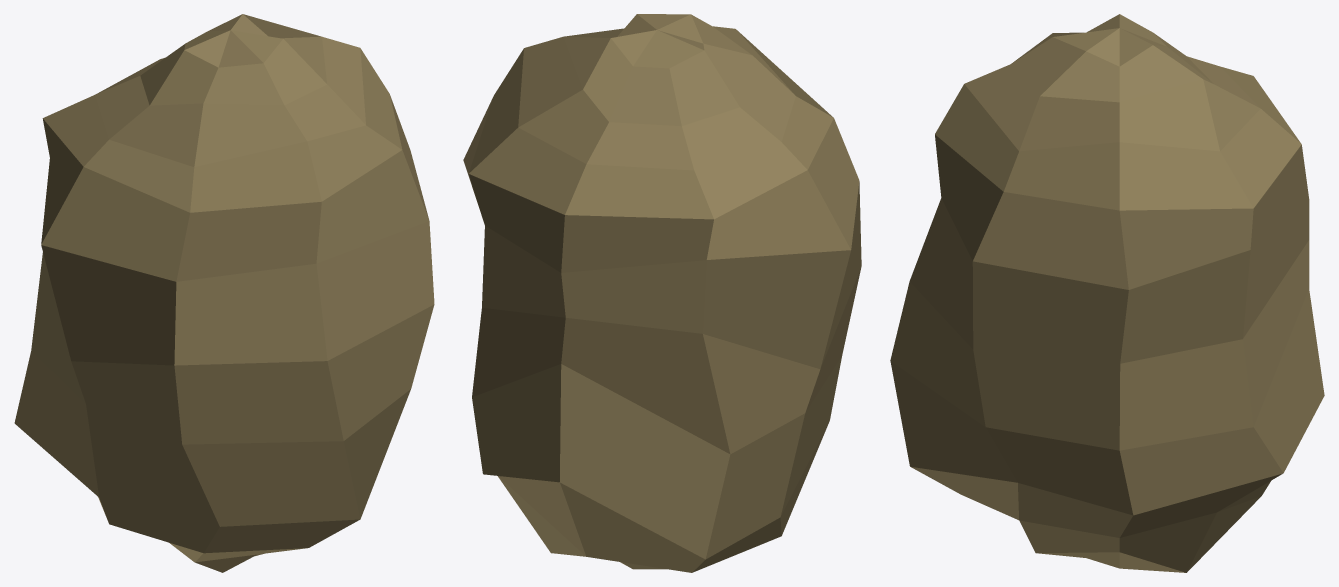
The model's file is Rock2.fbx.
The picture shows the model from 3 angles, left to right: view 1: azimuth 30°, elevation 25°; view 2: azimuth 150°, elevation 25°; view 3: azimuth 270°, elevation 25°; orthographic projection. The views are drawn at different scales.
Parts seen in each view (by area): view 1: Rock2_geo; view 2: Rock2_geo; view 3: Rock2_geo.
Part boxes in pixels (<box>): Rock2_geo: <box>14,14,434,572</box>; Rock2_geo: <box>463,14,861,572</box>; Rock2_geo: <box>890,14,1324,572</box>.
Bounding box in the file's own units: 7.07 × 9.42 × 7.01.
